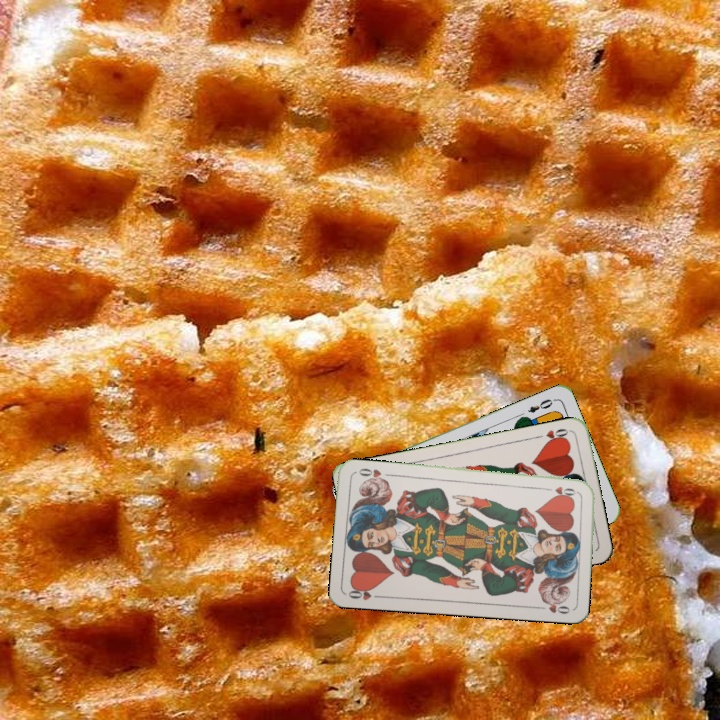EO: (524, 395, 558, 415)
HO: (532, 424, 572, 446), (344, 583, 384, 603), (540, 483, 581, 498)
